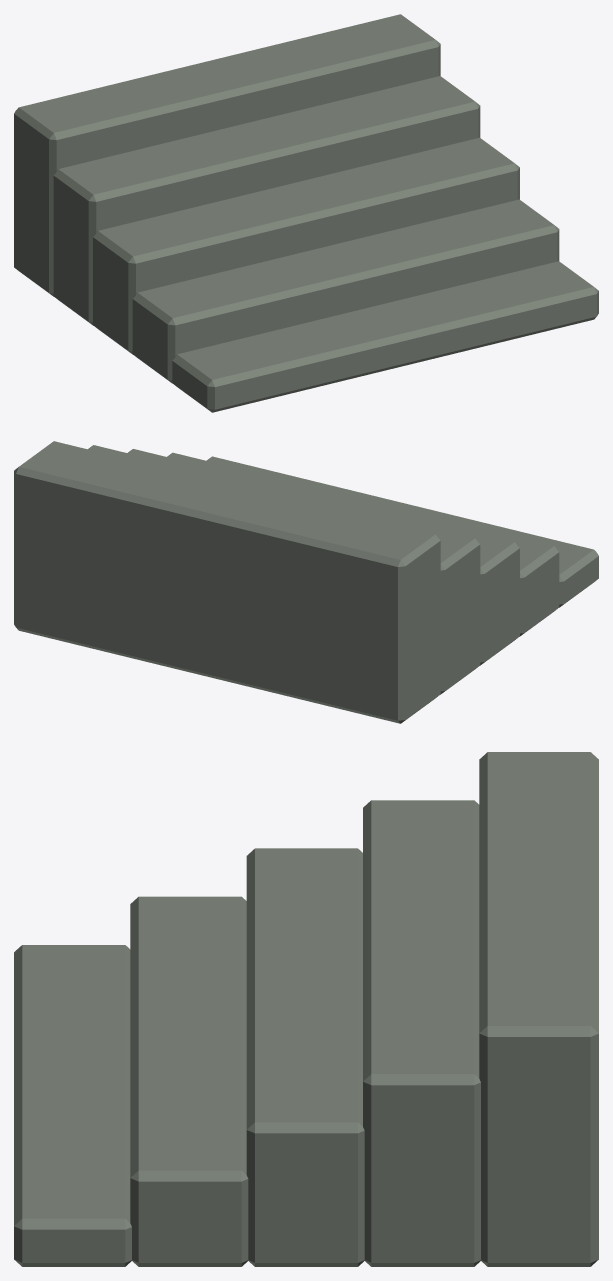
The model's file is Escada_de_pedra_LOD0.fbx.
3 renders of one model, top to bottom at view 1: azimuth 30°, elevation 25°; view 2: azimuth 150°, elevation 25°; view 3: azimuth 270°, elevation 25°, orthographic. The views are drawn at different scales.
Parts seen in each view (by area): view 1: Escada_de_pedra_LOD0; view 2: Escada_de_pedra_LOD0; view 3: Escada_de_pedra_LOD0.
Part boxes in pixels (x1,y1,x2,y2): Escada_de_pedra_LOD0: (14,14,598,412); Escada_de_pedra_LOD0: (14,441,598,723); Escada_de_pedra_LOD0: (14,752,598,1266).
Bounding box in the file's own units: 200 × 80 × 176.
Materials: 1 (1 with a texture image).
